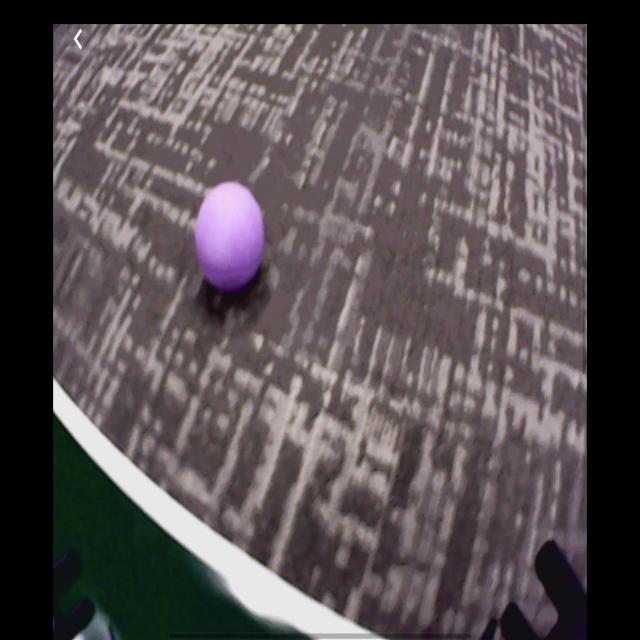ball: (195, 183, 268, 290)
